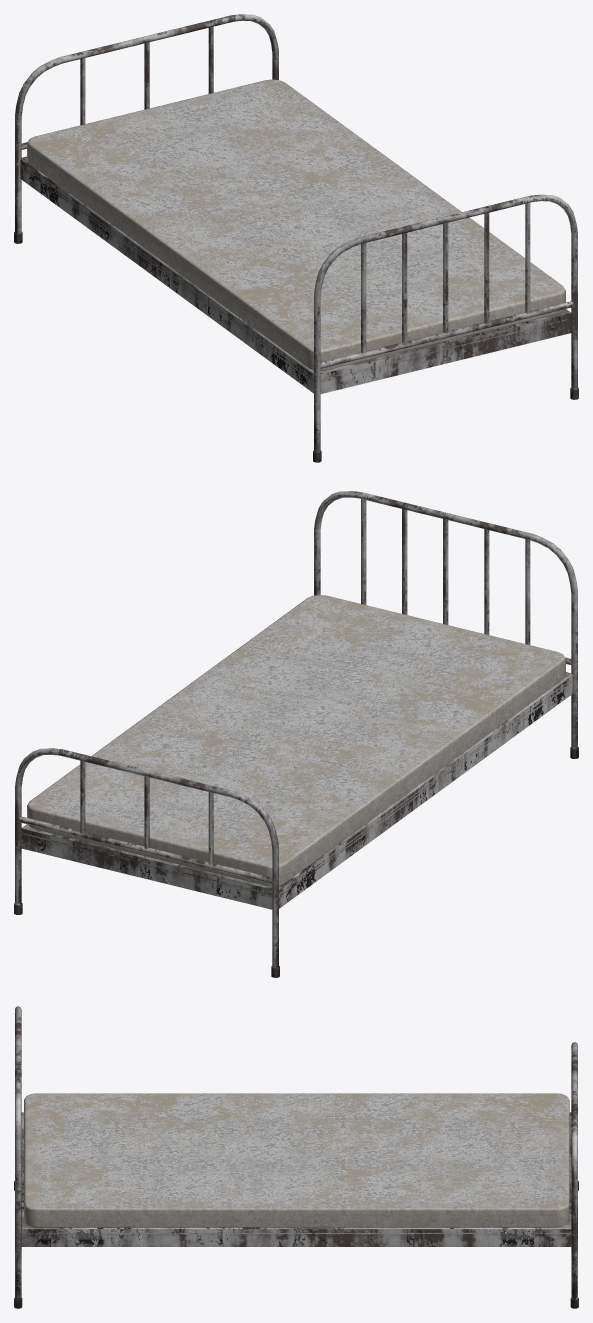
Rendered from bed.fbx.
3 views of the same model, one above another, from view 1: azimuth 30°, elevation 25°; view 2: azimuth 150°, elevation 25°; view 3: azimuth 270°, elevation 25° (orthographic). The views are drawn at different scales.
Visible parts, largest first — view 1: mat, frame; view 2: mat, frame; view 3: mat, frame.
Part boxes in pixels (left/top/right/bottom): mat: left=27, top=79, right=565, bottom=370; frame: left=14, top=14, right=578, bottom=462; mat: left=27, top=595, right=565, bottom=886; frame: left=14, top=491, right=578, bottom=977; mat: left=24, top=1093, right=569, bottom=1227; frame: left=14, top=1006, right=578, bottom=1308.
Size of the model in its own units: 103 by 79.3 by 205.
